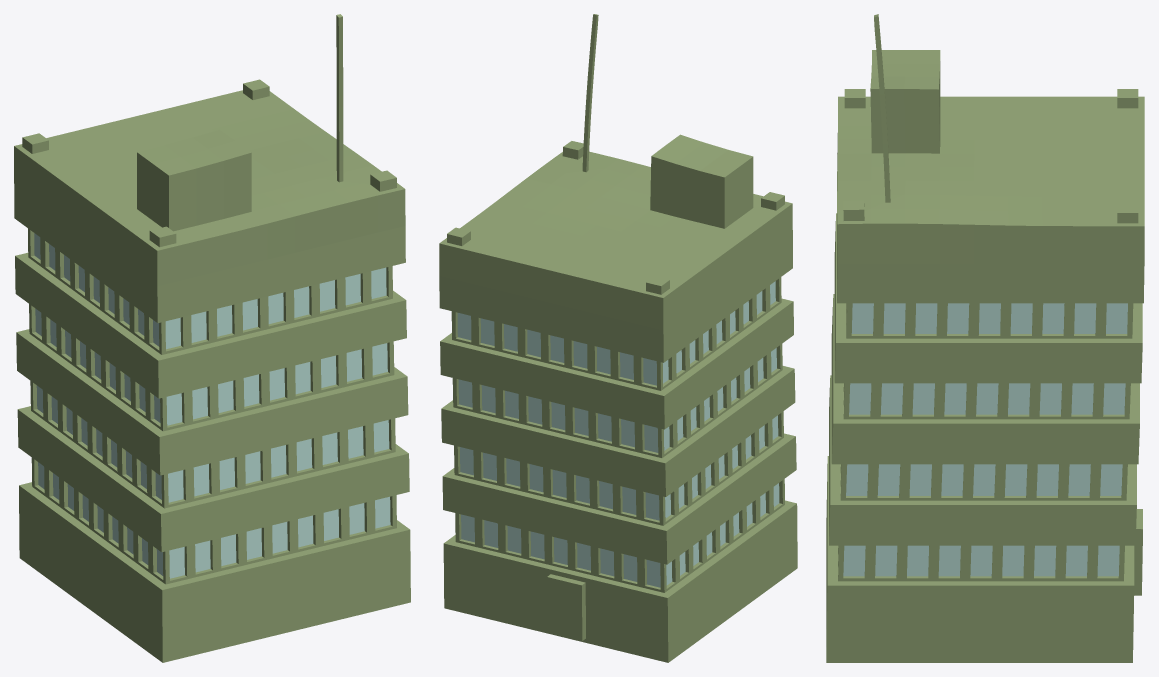
Rendered from building1.fbx.
3 views of the same model, side by side, from view 1: azimuth 30°, elevation 25°; view 2: azimuth 150°, elevation 25°; view 3: azimuth 270°, elevation 25° (orthographic). The views are drawn at different scales.
Parts seen in each view (by area): view 1: Cube; view 2: Cube; view 3: Cube.
Boxes of the visible parts, left/top/right/bottom form: Cube: left=14, top=14, right=410, bottom=662; Cube: left=439, top=14, right=797, bottom=662; Cube: left=826, top=14, right=1144, bottom=662.
Size of the model in its own units: 200 by 448 by 208.
